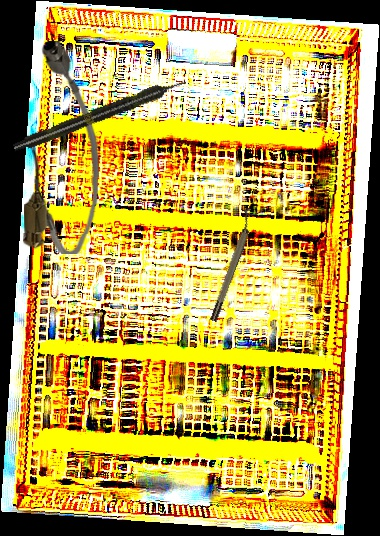Cannula: (22, 40, 104, 255)
Fixation Ring: (203, 207, 261, 323)
Handpiece: (11, 74, 189, 156)
